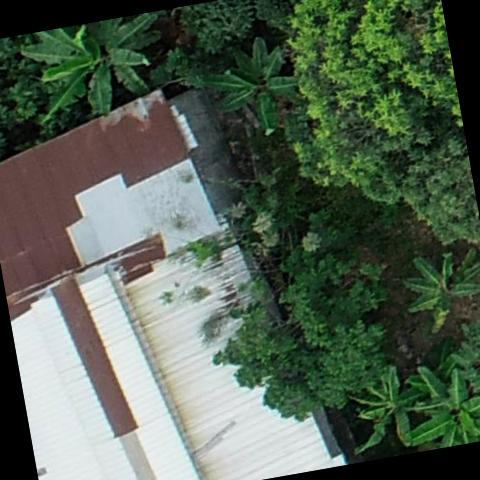Banana-plant: (21, 11, 176, 132), (196, 34, 312, 146), (336, 357, 438, 463), (396, 355, 480, 454), (391, 244, 480, 337)
